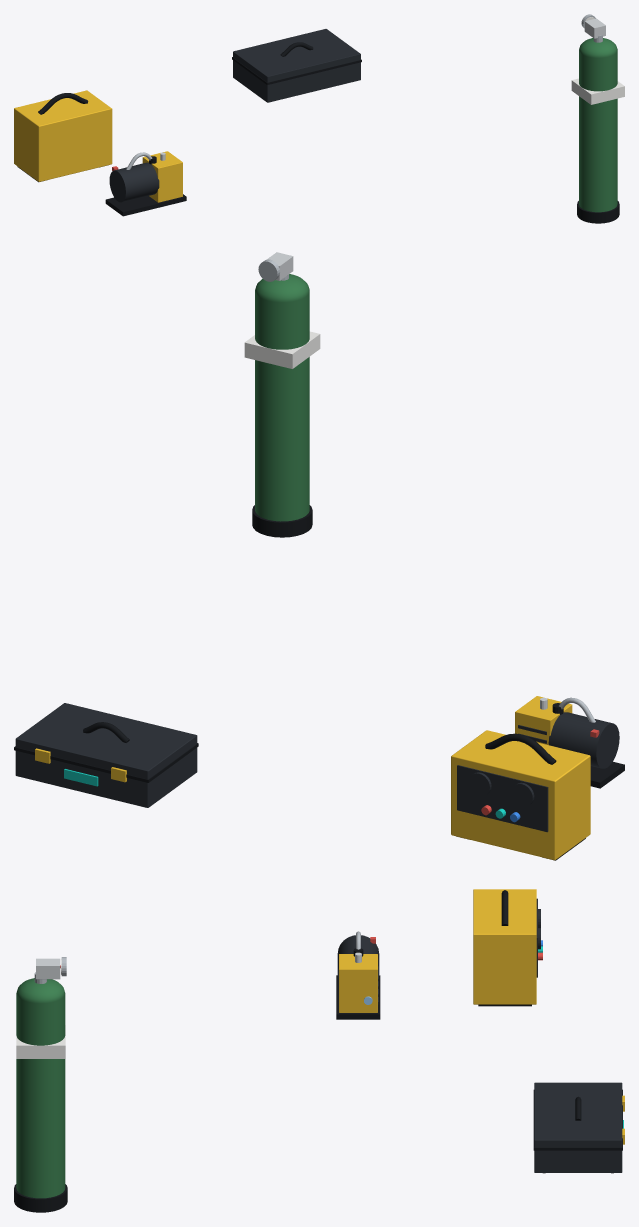
The model's file is supply-tools.glb.
The picture shows the model from 3 angles, top to bottom: view 1: azimuth 30°, elevation 25°; view 2: azimuth 150°, elevation 25°; view 3: azimuth 270°, elevation 25°; orthographic projection. The views are drawn at different scales.
Visible parts, largest first — view 1: nitrogen-kit, recovery-machine, tool-case, vacuum-pump; view 2: nitrogen-kit, recovery-machine, tool-case, vacuum-pump; view 3: nitrogen-kit, tool-case, recovery-machine, vacuum-pump.
Boxes of the visible parts, x1,y1,x2,y2 form: nitrogen-kit: [571, 14, 624, 223]; recovery-machine: [14, 90, 112, 182]; tool-case: [232, 29, 361, 102]; vacuum-pump: [105, 151, 186, 216]; nitrogen-kit: [244, 252, 320, 537]; recovery-machine: [451, 730, 590, 860]; tool-case: [14, 703, 198, 807]; vacuum-pump: [515, 696, 624, 788]; nitrogen-kit: [14, 957, 67, 1212]; tool-case: [533, 1082, 624, 1173]; recovery-machine: [473, 889, 542, 1006]; vacuum-pump: [336, 931, 380, 1019].
Size of the model in its own units: 2.43 by 1.1 by 2.5.
